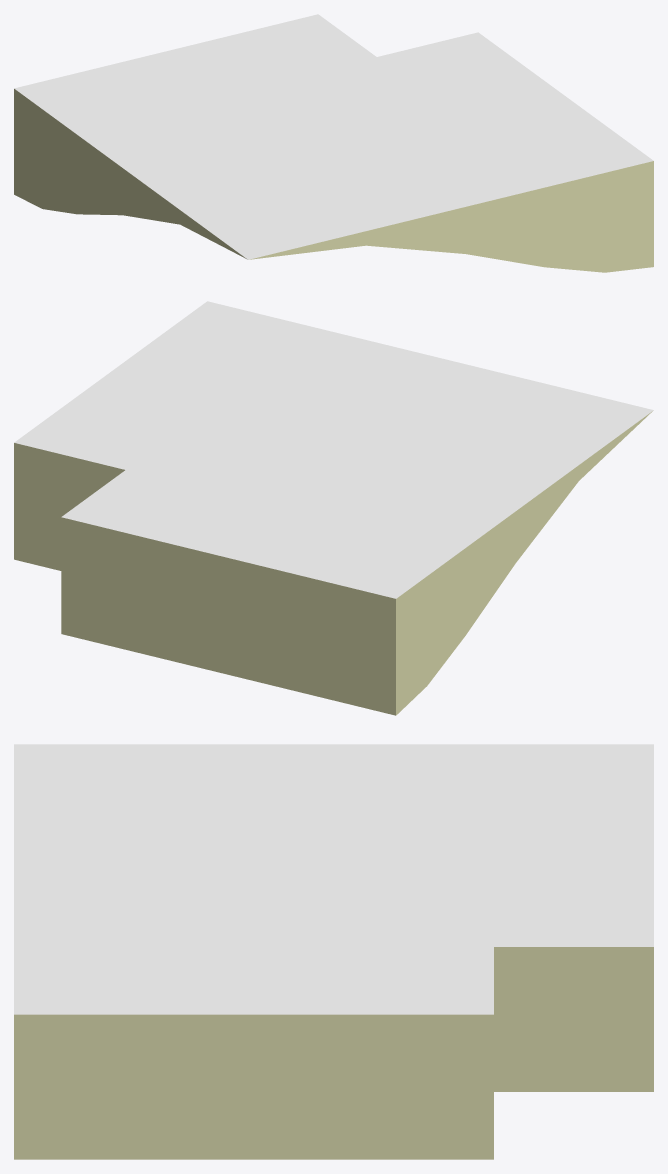
Rendered from Ceiling_Curve_Inner_4x4.glb.
3 renders of one model, top to bottom at view 1: azimuth 30°, elevation 25°; view 2: azimuth 150°, elevation 25°; view 3: azimuth 270°, elevation 25°, orthographic. The views are drawn at different scales.
Visible parts, largest first — view 1: Ceiling_Curve_Inner_4x4; view 2: Ceiling_Curve_Inner_4x4; view 3: Ceiling_Curve_Inner_4x4.
Boxes of the visible parts, left/top/right/bottom form: Ceiling_Curve_Inner_4x4: left=14, top=14, right=653, bottom=272; Ceiling_Curve_Inner_4x4: left=14, top=301, right=653, bottom=715; Ceiling_Curve_Inner_4x4: left=14, top=744, right=653, bottom=1159.
Size of the model in its own units: 400 by 100 by 400.
